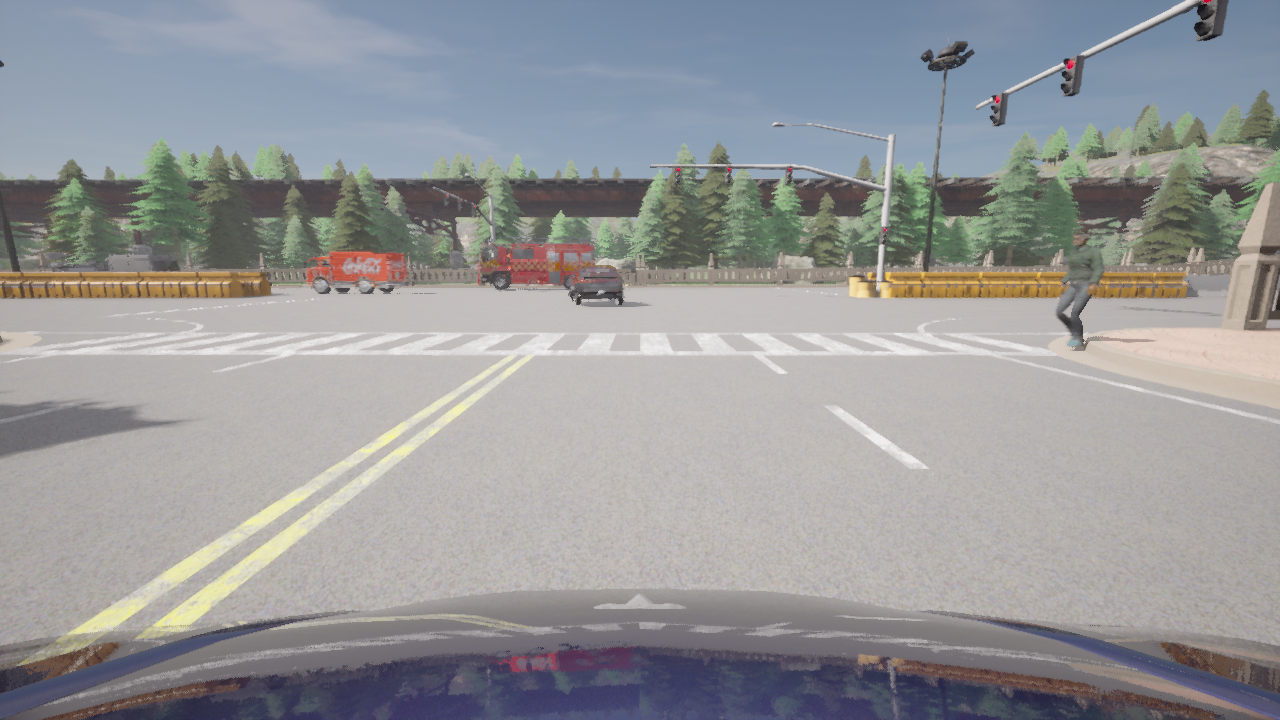cyclist: (0, 588, 1279, 719), (476, 236, 592, 289), (303, 251, 408, 294), (569, 265, 624, 305), (98, 253, 181, 271), (50, 261, 98, 271), (375, 287, 400, 289)
pedestrian: (1054, 230, 1104, 346), (413, 264, 416, 284)
